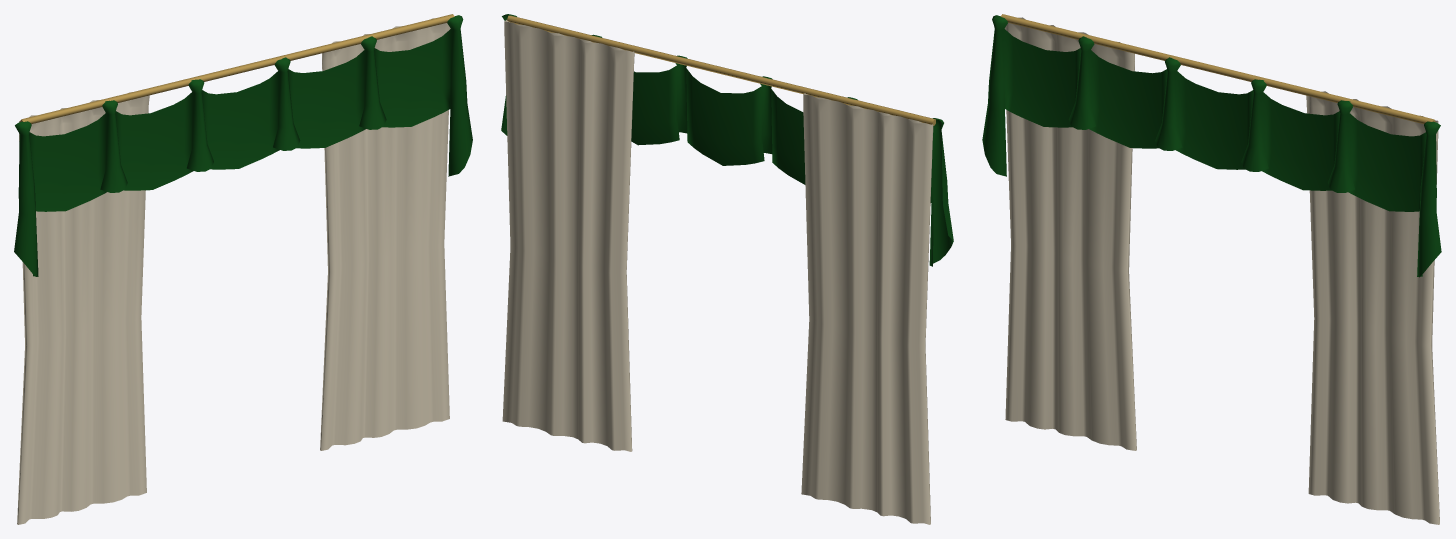
Rendered from BallroomDrapesUV.fbx.
3 views of the same model, side by side, from view 1: azimuth 30°, elevation 25°; view 2: azimuth 150°, elevation 25°; view 3: azimuth 330°, elevation 25° (orthographic).
Parts seen in each view (by area): view 1: Drapes:Mesh; view 2: Drapes:Mesh; view 3: Drapes:Mesh.
Part boxes in pixels (x1,y1,x2,y2): Drapes:Mesh: (14, 14, 472, 524); Drapes:Mesh: (501, 14, 953, 524); Drapes:Mesh: (982, 14, 1441, 524).
Bounding box in the file's own units: 532 × 452 × 37.11.
